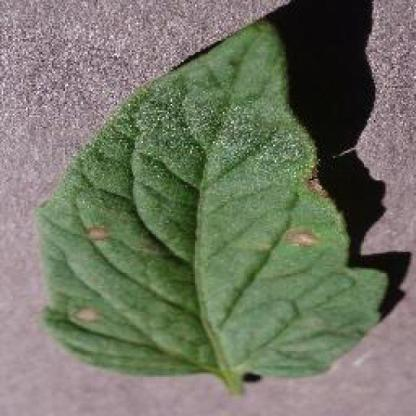Tomato_Blight: (38, 23, 381, 363)
